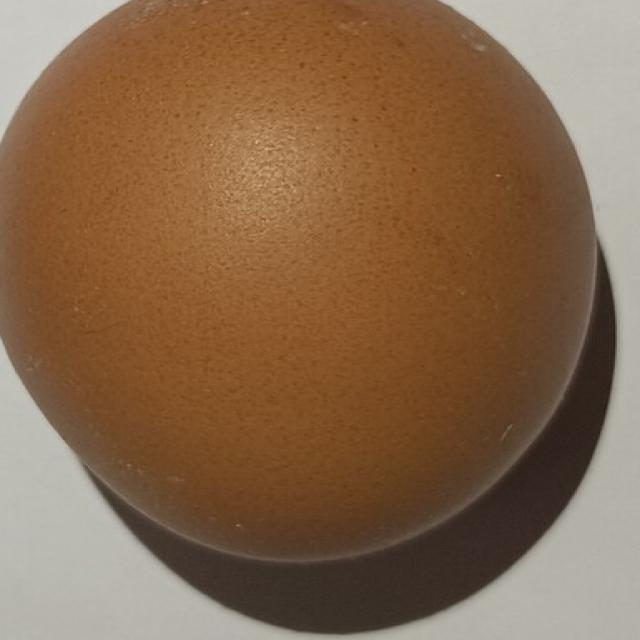fresh: (0, 0, 575, 562)
